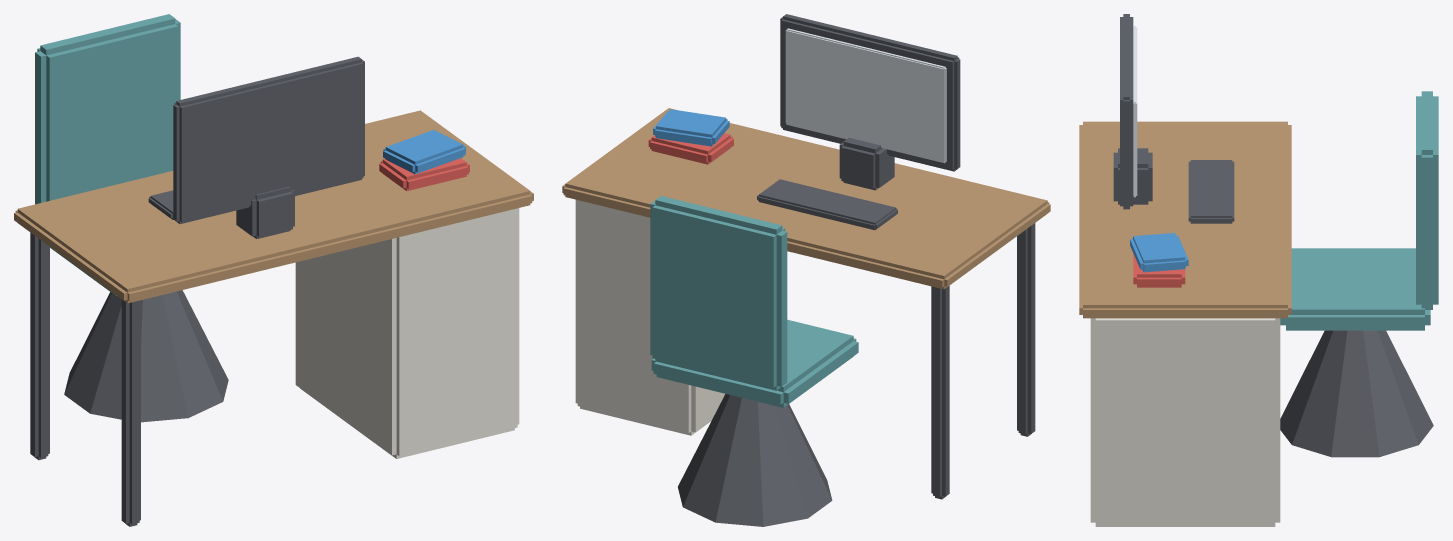
Rendered from Interior_StudyDesk.fbx.
3 views of the same model, side by side, from view 1: azimuth 30°, elevation 25°; view 2: azimuth 150°, elevation 25°; view 3: azimuth 270°, elevation 25° (orthographic). The views are drawn at different scales.
Visible parts, largest first — view 1: Interior_StudyDesk; view 2: Interior_StudyDesk; view 3: Interior_StudyDesk.
Part boxes in pixels (x1=…): Interior_StudyDesk: x1=14, y1=14, x2=533, y2=526; Interior_StudyDesk: x1=562, y1=14, x2=1050, y2=526; Interior_StudyDesk: x1=1079, y1=14, x2=1438, y2=526.
Bounding box in the file's own units: 1.35 × 1.25 × 1.1.
